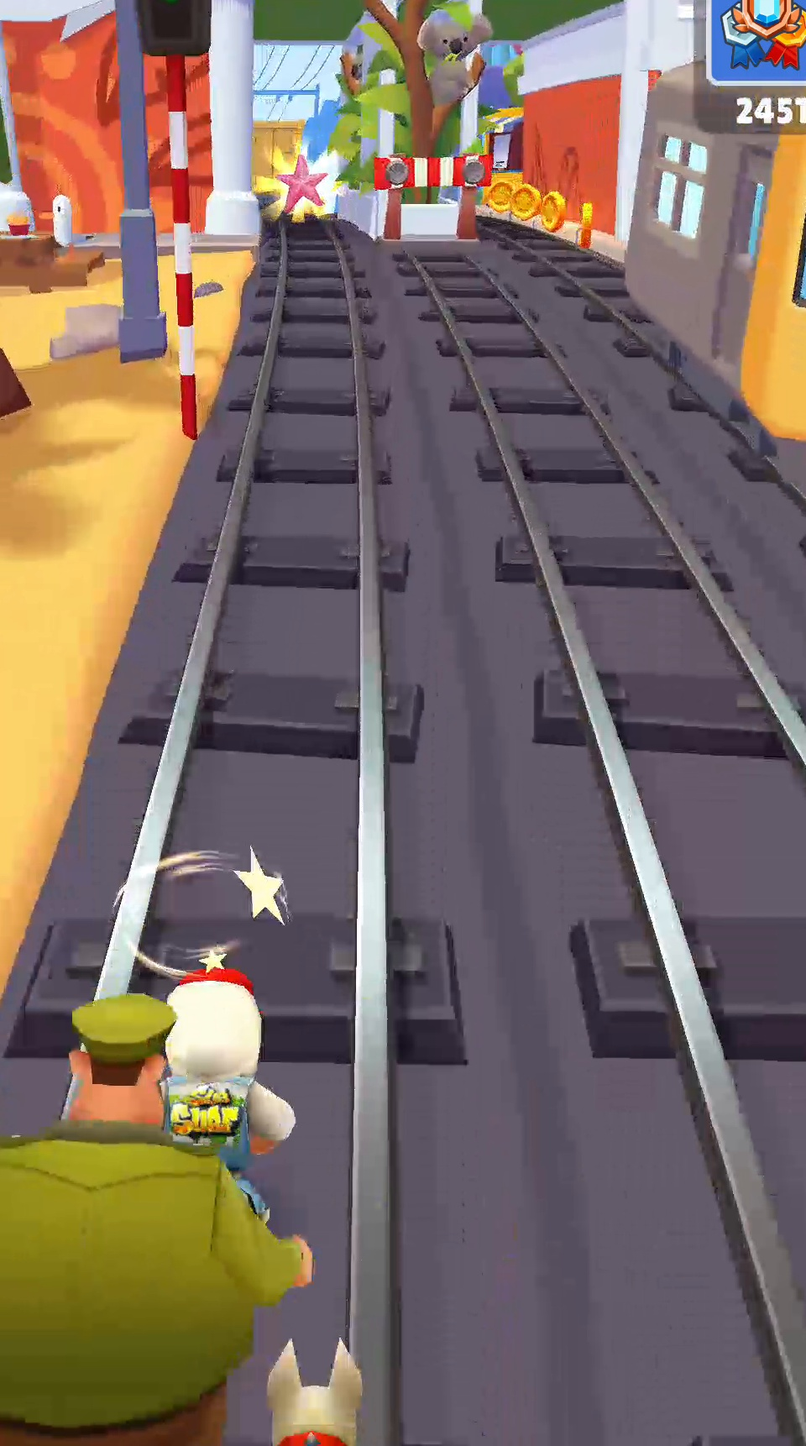block pillar: (328, 0, 491, 241)
train: (625, 63, 805, 442), (253, 119, 305, 191)
